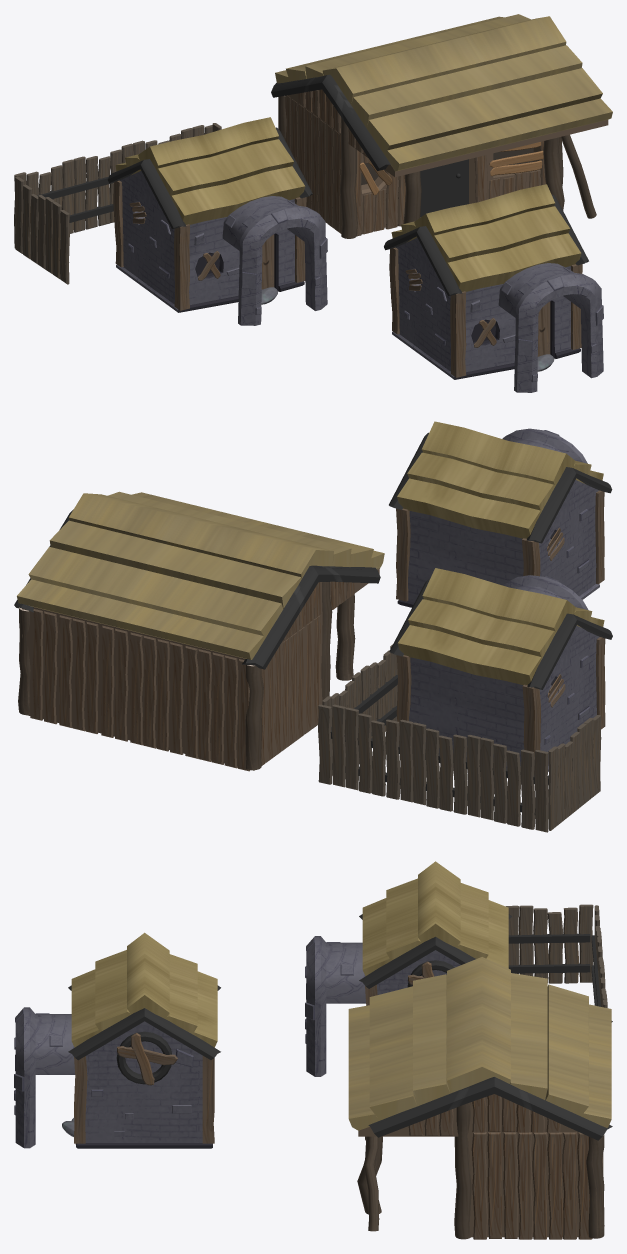
File: Houses.fbx
The picture shows the model from 3 angles, top to bottom: view 1: azimuth 30°, elevation 25°; view 2: azimuth 150°, elevation 25°; view 3: azimuth 270°, elevation 25°; orthographic projection. The views are drawn at different scales.
Parts seen in each view (by area): view 1: House2, House1, House3; view 2: House2, House1, House3; view 3: House2, House3, House1.
Part boxes in pixels (box(x1,y1,x2,y2)): House2: box(271, 14, 612, 238); House1: box(14, 117, 327, 325); House3: box(384, 184, 603, 392); House2: box(14, 491, 384, 771); House1: box(318, 568, 612, 832); House3: box(389, 421, 612, 607); House2: box(348, 957, 612, 1239); House3: box(14, 932, 220, 1148); House1: box(305, 861, 607, 1076).
Bounding box in the file's own units: 465 × 148 × 467.
